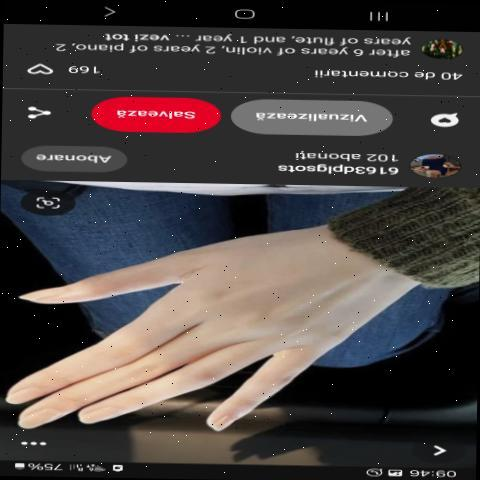Hands: (1, 212, 341, 470)
